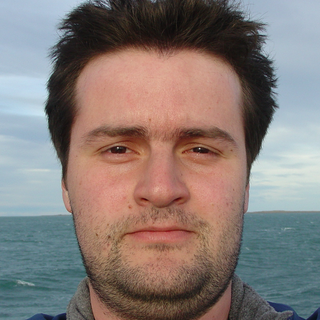eye: (90, 138, 146, 164), (175, 139, 226, 164)
